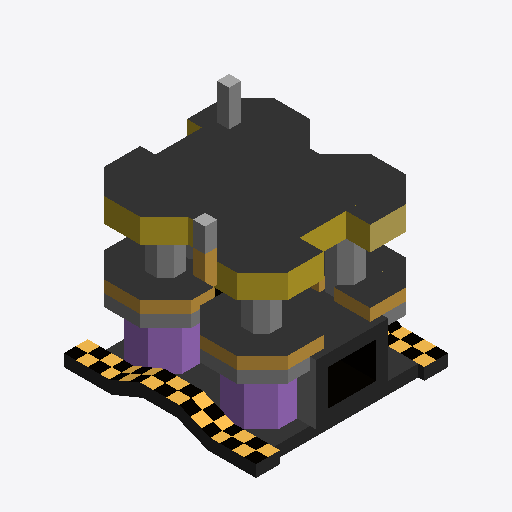
Isometric view (azimuth 45°, elevation 35.3°) of a Minecraft model made of 114 cuboids, textured from the same repository.
Visible parts, largest first — element 103, element 49, element 2, element 48, element 83, element 35, element 38, element 30, element 45, element 96, element 100, element 31 (+28 smaller).
Part boxes in pixels (x1,y1,x2,y2): element 103: (118, 109, 380, 258); element 49: (186, 257, 387, 373); element 2: (106, 339, 417, 456); element 48: (297, 360, 387, 428); element 83: (346, 199, 405, 251); element 35: (200, 314, 271, 383); element 38: (334, 273, 405, 324); element 30: (104, 259, 175, 327); element 45: (208, 424, 279, 477); element 96: (237, 245, 287, 299); element 100: (104, 182, 163, 243); element 31: (140, 286, 190, 327).
Size of the model in its own units: 16 by 16 by 16.